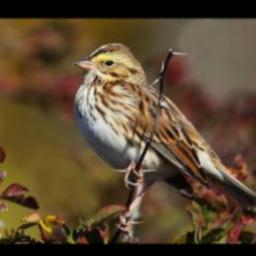Sparrow: (72, 40, 256, 212)
